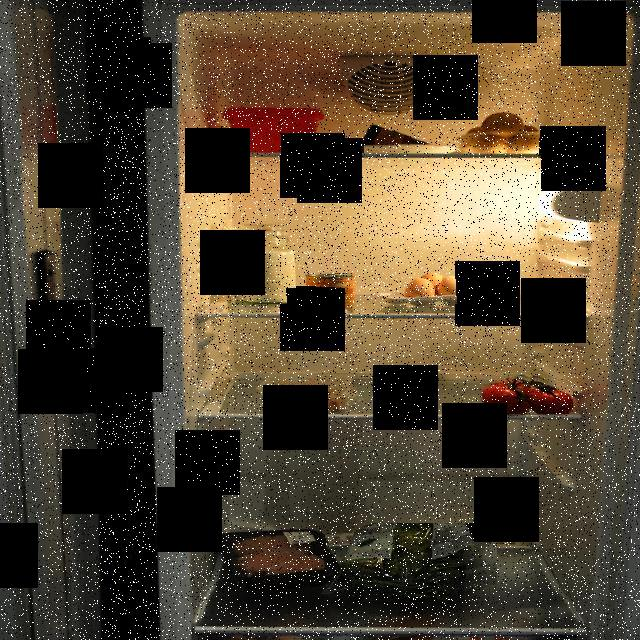butter: (221, 106, 325, 155)
cheese: (357, 125, 433, 153)
chicken_breast: (233, 532, 329, 585)
corn: (306, 272, 355, 312)
eggs: (400, 272, 500, 306)
shrimp: (264, 375, 350, 410)
spinach: (326, 523, 498, 601)
sugar: (224, 221, 296, 304)
sweet_potato: (456, 112, 558, 156)
tomato: (478, 372, 574, 414)
